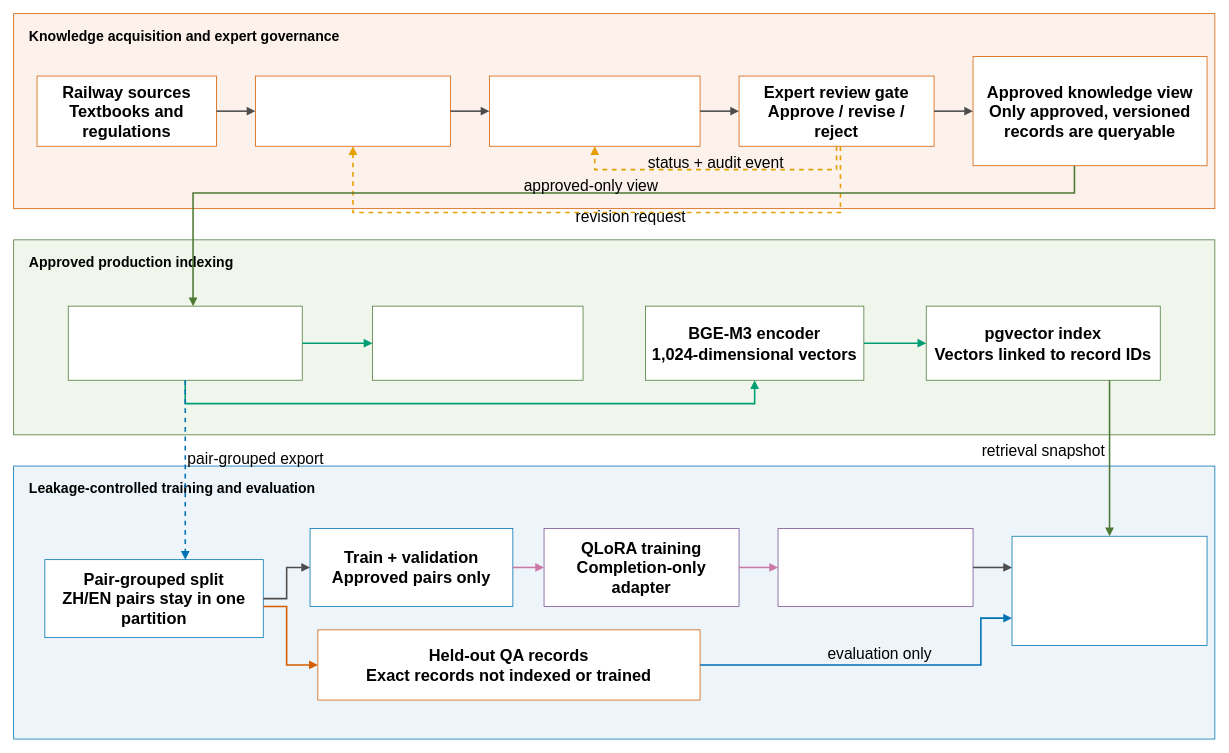
The diagram is 1229 pixels wide and 753 high, and some of its shapes have lost their labels. The centre of each missing label's shape, as x and y in pixels:
"Adapter Local model revision" belongs at pixel 875 567.
"Approved text fields Chinese, English and provenance" belongs at pixel 184 342.
"Bilingual ingestion Chunk, align and add metadata" belongs at pixel 352 110.
"BM25 index Lexical production index" belongs at pixel 477 342.
"Evaluation QA, RAG, translation and resource use" belongs at pixel 1109 590.
"Governed records PostgreSQL authoritative record" belongs at pixel 594 110.
